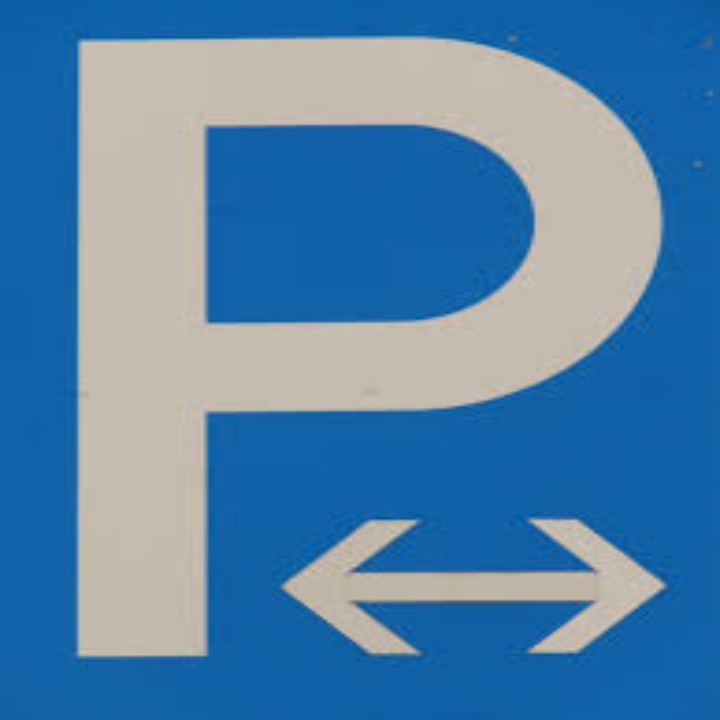parking: (56, 24, 681, 665)
